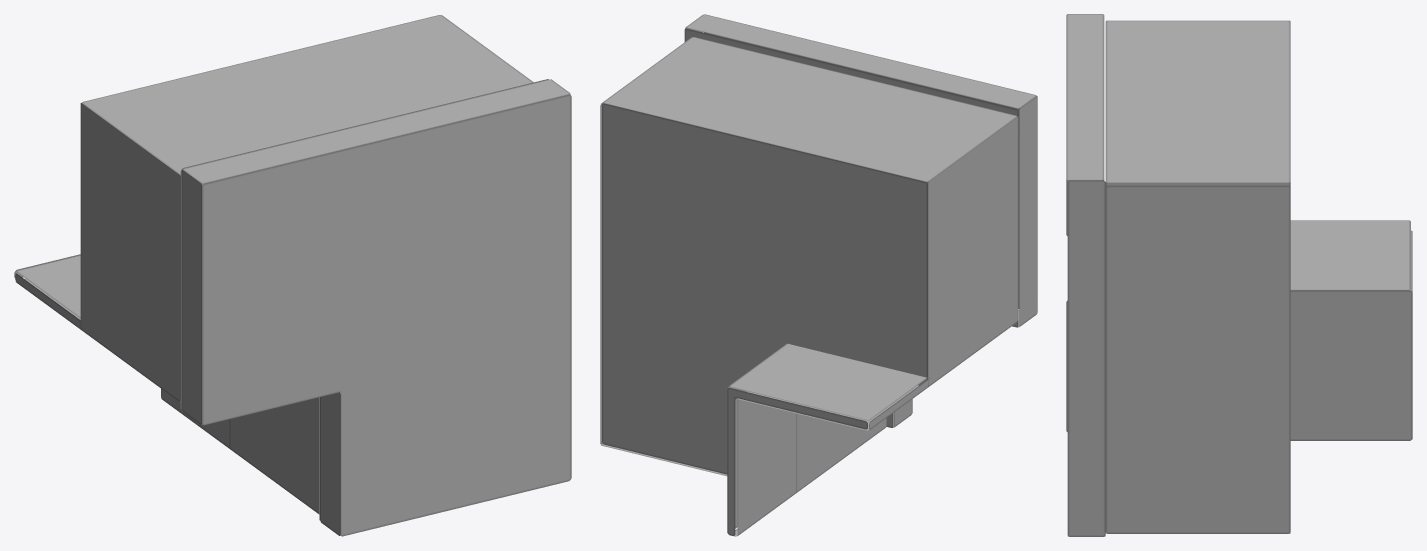
File: pz_counter_steel_corner.obj
3 views of the same model, side by side, from view 1: azimuth 30°, elevation 25°; view 2: azimuth 150°, elevation 25°; view 3: azimuth 270°, elevation 25° (orthographic). The views are drawn at different scales.
Size of the model in its own units: 1 by 1 by 0.88.
Materials: 1 (1 with a texture image).
